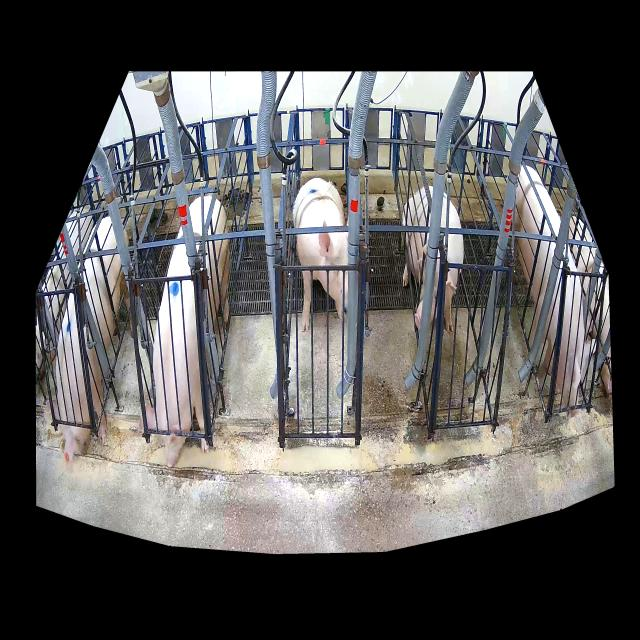pig: (146, 196, 230, 467), (514, 165, 596, 419), (53, 217, 133, 466), (403, 187, 463, 337), (293, 177, 348, 332)
